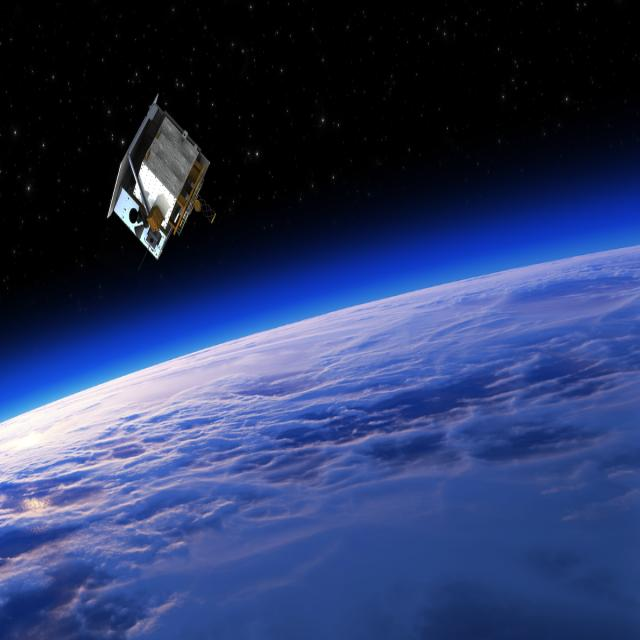satellite: (100, 90, 220, 280)
